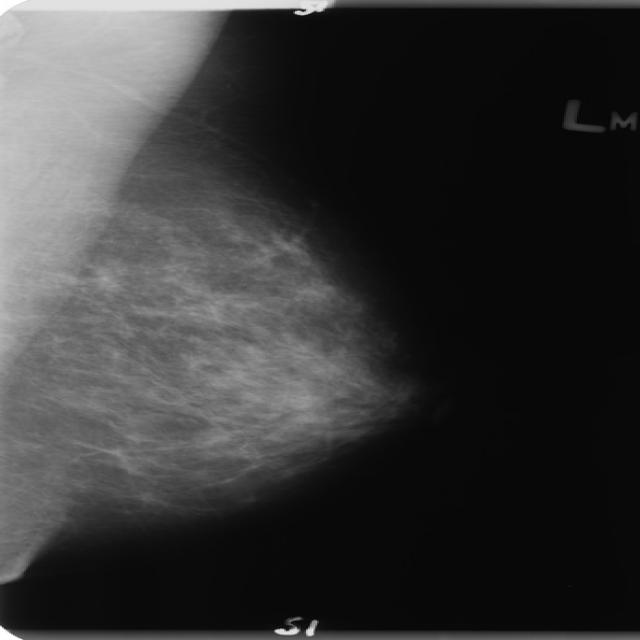tumour: (188, 426, 228, 448)
